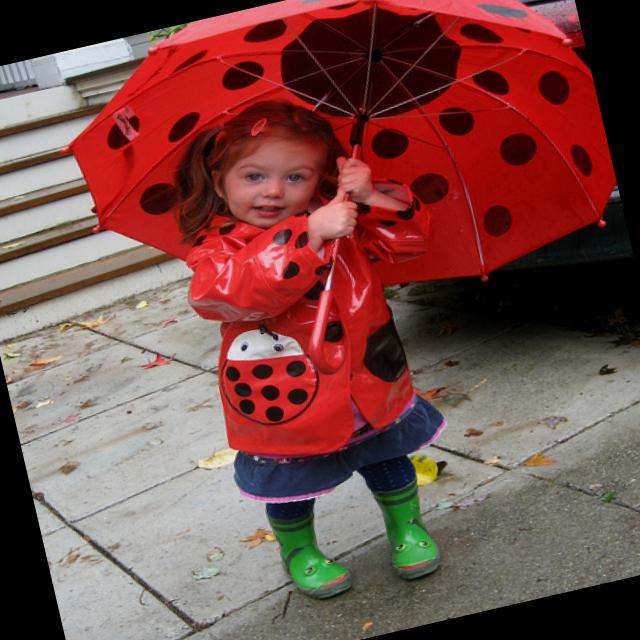Vehicle: (318, 0, 637, 326)
